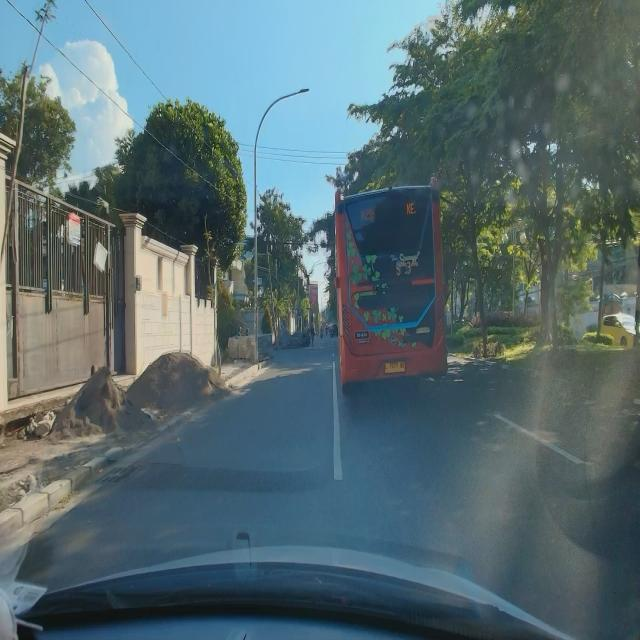bus: (334, 176, 449, 396)
license-plate: (384, 360, 405, 375)
